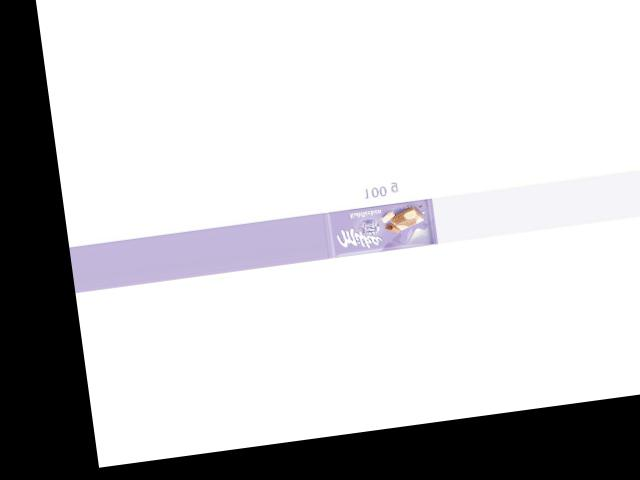chocolate: (322, 191, 439, 260)
